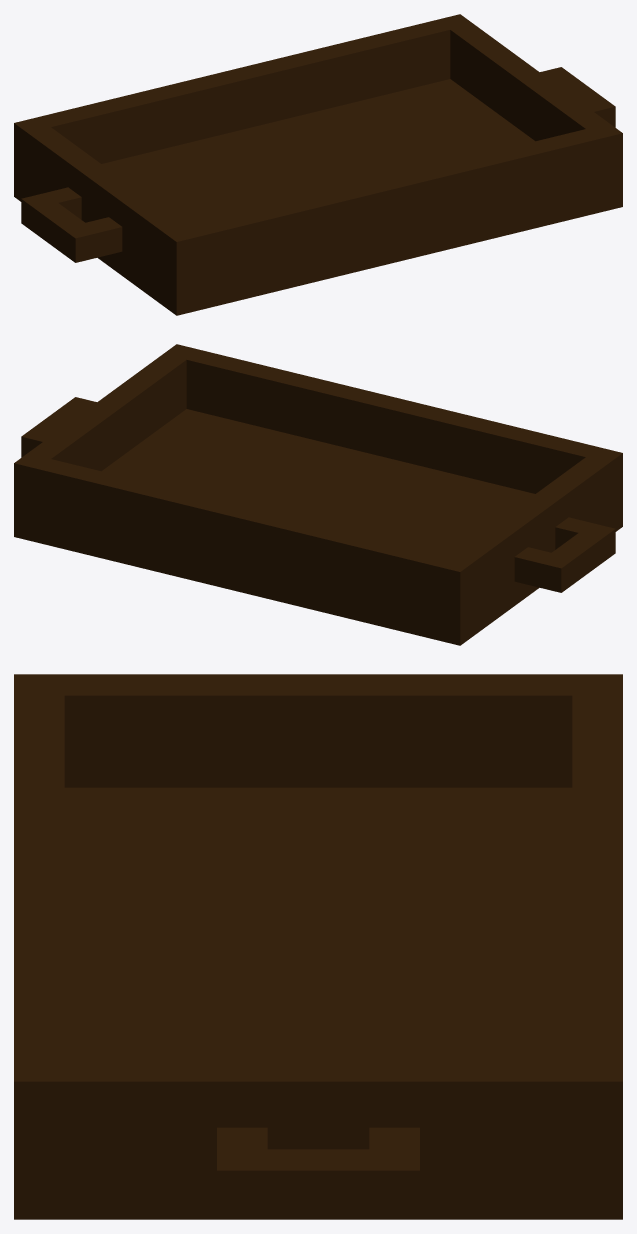
The model's file is tray.obj.
3 views of the same model, one above another, from view 1: azimuth 30°, elevation 25°; view 2: azimuth 150°, elevation 25°; view 3: azimuth 270°, elevation 25° (orthographic). The views are drawn at different scales.
Parts seen in each view (by area): view 1: tray; view 2: tray; view 3: tray.
Part boxes in pixels (x1,y1,x2,y2): tray: (14, 14, 622, 315); tray: (14, 344, 622, 645); tray: (14, 674, 622, 1219).
Bounding box in the file's own units: 23 × 3 × 12.
1 material, 1 textured.
